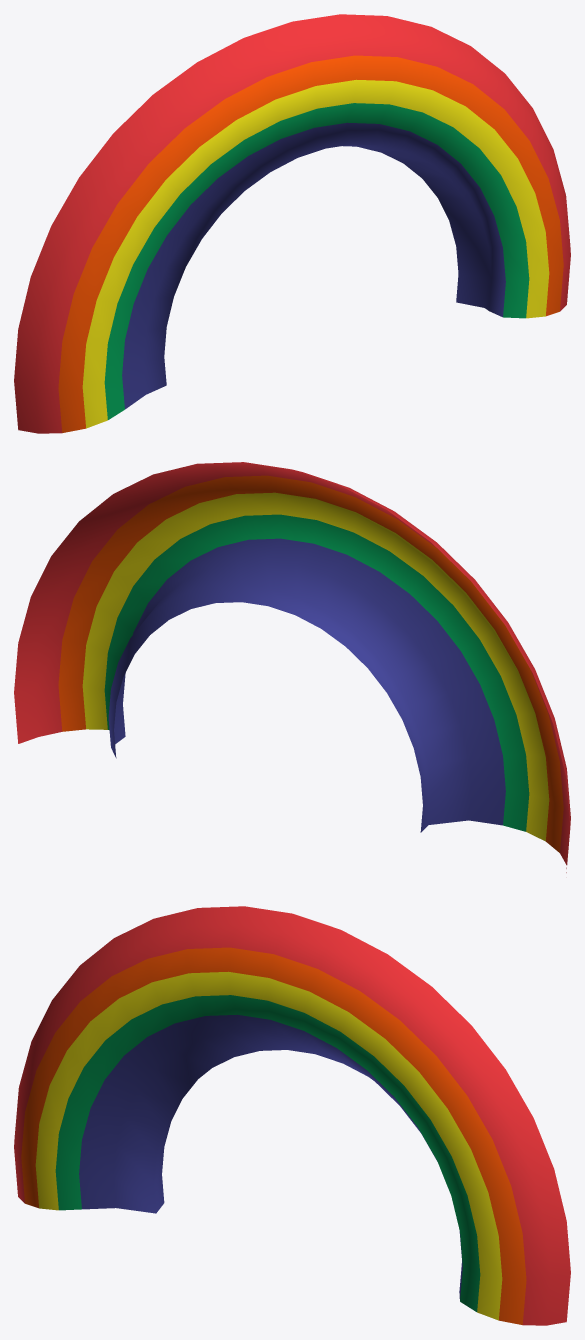
Rendered from arcoAzul.fbx.
3 views of the same model, one above another, from view 1: azimuth 30°, elevation 25°; view 2: azimuth 150°, elevation 25°; view 3: azimuth 330°, elevation 25° (orthographic).
Visible parts, largest first — view 1: cinza; view 2: cinza; view 3: cinza.
Part boxes in pixels (x1,y1,x2,y2): cinza: (14,14,570,433); cinza: (14,462,570,872); cinza: (14,906,570,1325).
Size of the model in its own units: 6.08 by 3.57 by 0.5824.
